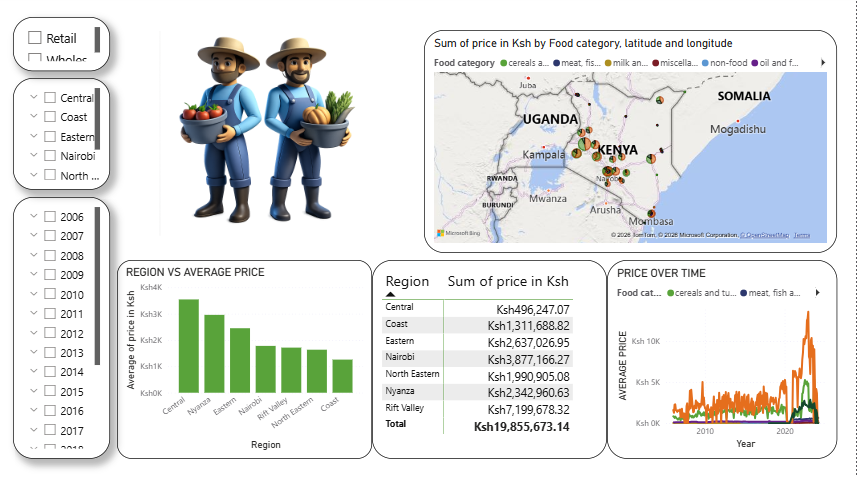

The page's visual inventory and layout, read from the dashboard file:
{"tool":"powerbi","page":{"name":"Page 2","canvas":[1280,720],"ordinal":1},"visuals":[{"type":"map","fields":{"Series":["DIM_FOOD.Food category"],"Size":["Sum(FACT_FOOD_PRICES.price in  Ksh)"],"X":["DIM_LOCATION.longitude"],"Y":["DIM_LOCATION.latitude"]},"box":[633.4,52.3,616.9,333.1],"z":1001},{"type":"lineChart","title":"PRICE OVER TIME","fields":{"Category":["DIM_DATE.date.Variation.Date Hierarchy.Year","DIM_DATE.date.Variation.Date Hierarchy.Quarter","DIM_DATE.date.Variation.Date Hierarchy.Month","DIM_DATE.date.Variation.Date Hierarchy.Day"],"Y":["FACT_FOOD_PRICES.AVERAGE PRICE"],"Series":["DIM_FOOD.Food category"]},"box":[906.7,395.9,343.6,297.3],"z":1002},{"type":"clusteredColumnChart","title":"REGION VS AVERAGE PRICE ","fields":{"Category":["DIM_LOCATION.Region"],"Y":["Avg(FACT_FOOD_PRICES.price in  Ksh)"]},"box":[174.8,395.9,380.9,297.3],"z":1003},{"type":"pivotTable","fields":{"Rows":["DIM_LOCATION.Region"],"Values":["Sum(FACT_FOOD_PRICES.price in  Ksh)"]},"box":[555.7,395.9,351,297.3],"z":1004},{"type":"slicer","fields":{"Values":["DIM_DATE.Year","DIM_DATE.Quarter","DIM_DATE.Month"]},"box":[19.4,301.7,144.9,391.4],"z":1005},{"type":"slicer","fields":{"Values":["DIM_LOCATION.Region","DIM_LOCATION.Town","DIM_LOCATION.Market"]},"box":[19.4,124,144.9,167.3],"z":1006},{"type":"image","box":[200.2,53.8,380.9,306.2],"z":1007},{"type":"slicer","fields":{"Values":["DIM_FOOD.pricetype"]},"box":[19.4,32.9,144.9,80.7],"z":1008}]}

Visuals, with their boxes in screenshot pixels (x1, y1, x2, y2), scaled from the page's 1280x720 canvas onto the 857x477 screenshot:
map - DIM_FOOD.Food category x Sum(FACT_FOOD_PRICES.price in  Ksh): 424:35:837:255
"PRICE OVER TIME" lineChart: 607:262:837:459
"REGION VS AVERAGE PRICE " clusteredColumnChart: 117:262:372:459
pivotTable - DIM_LOCATION.Region x Sum(FACT_FOOD_PRICES.price in  Ksh): 372:262:607:459
slicer - DIM_DATE.Year x DIM_DATE.Quarter: 13:200:110:459
slicer - DIM_LOCATION.Region x DIM_LOCATION.Town: 13:82:110:193
image: 134:36:389:238
slicer - DIM_FOOD.pricetype: 13:22:110:75
